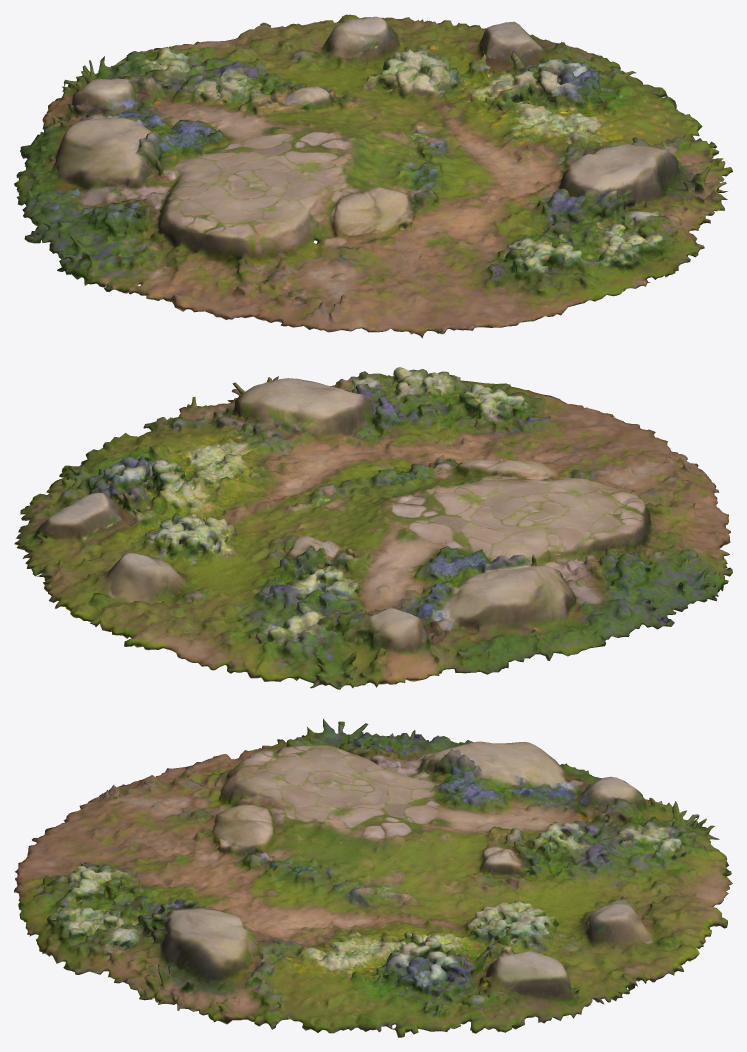
File: Meshy_AI_Path_of_Wildflowers_0319011115_texture.glb
3 renders of one model, top to bottom at view 1: azimuth 30°, elevation 25°; view 2: azimuth 150°, elevation 25°; view 3: azimuth 270°, elevation 25°, orthographic. The views are drawn at different scales.
Size of the model in its own units: 1.9 by 0.1755 by 1.91.
1 material, 1 textured.
